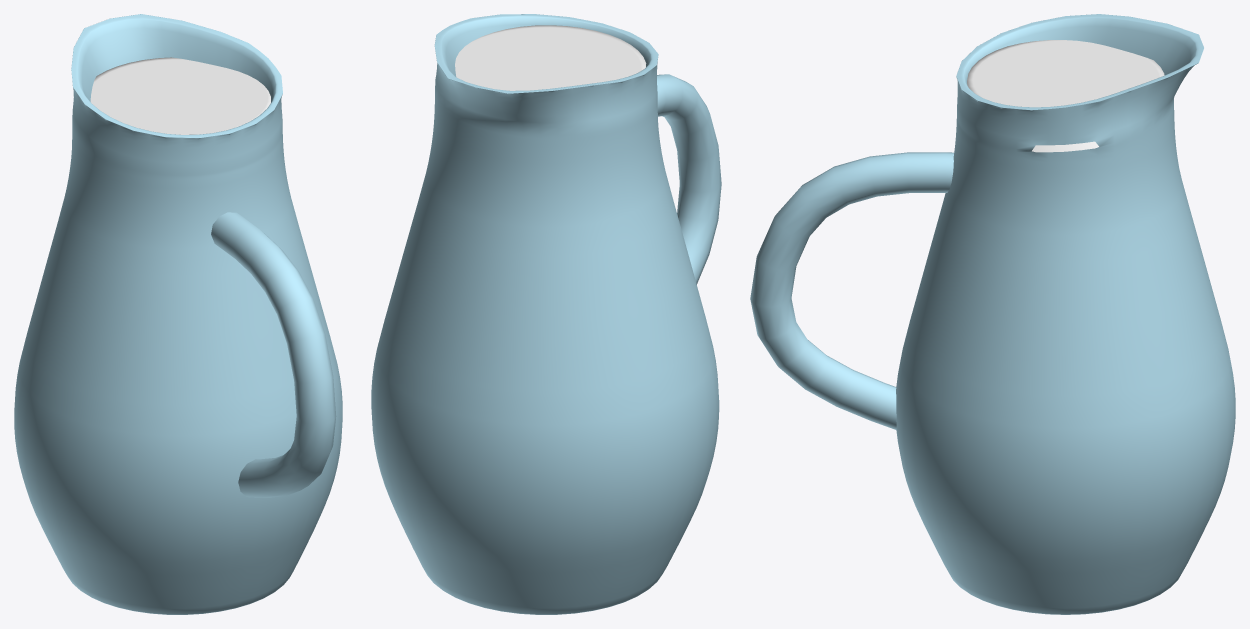
Rendered from Jug of milk.gltf.
3 renders of one model, left to right at view 1: azimuth 30°, elevation 25°; view 2: azimuth 150°, elevation 25°; view 3: azimuth 270°, elevation 25°, orthographic. The views are drawn at different scales.
Visible parts, largest first — view 1: node-0; view 2: node-0; view 3: node-0.
Part boxes in pixels (x1,y1,x2,y2): node-0: [14, 14, 342, 614]; node-0: [371, 14, 721, 614]; node-0: [750, 14, 1235, 614].
Size of the model in its own units: 354 by 595 by 504.
